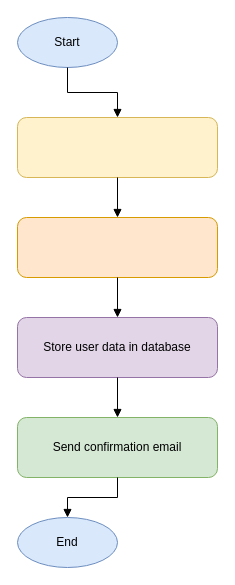
This 235x585 diagram has some shape labels left out. The shapes that lost their labels are listed below. From the top down, each one's centre as x and y in pixels, then its label:
At (117,147): "User submits registration form".
At (117,247): "Validate input data".
